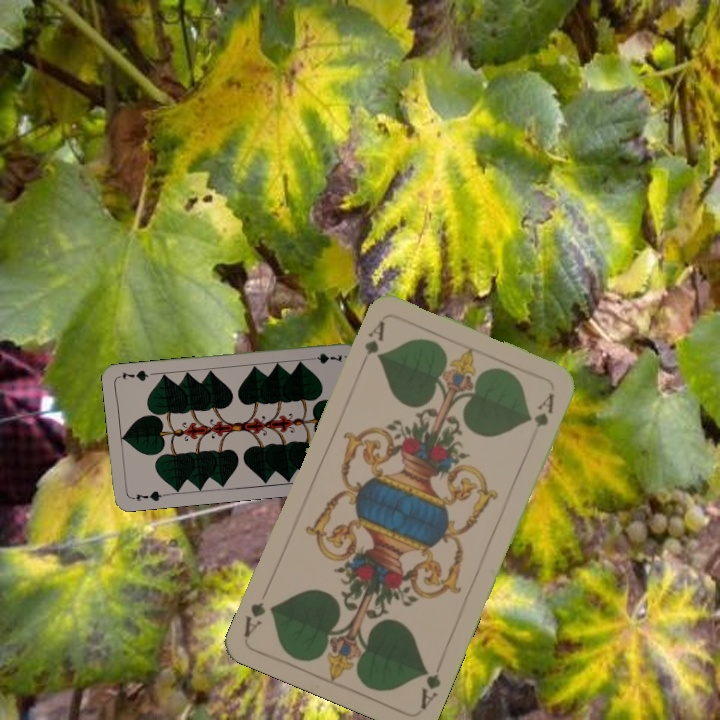G7: (304, 349, 345, 366), (128, 487, 168, 504)
GA: (356, 316, 387, 372), (416, 662, 444, 712)
